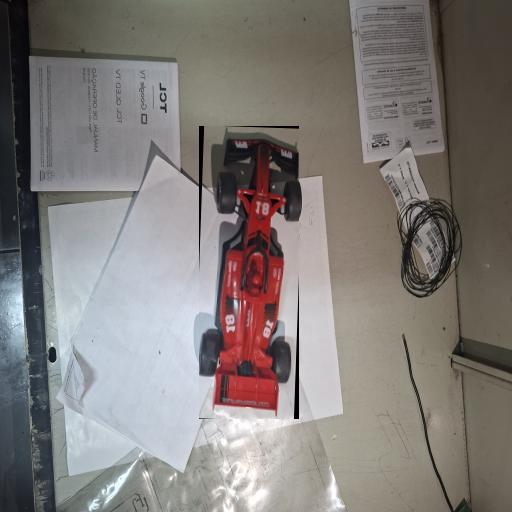carro: (199, 126, 299, 419)
